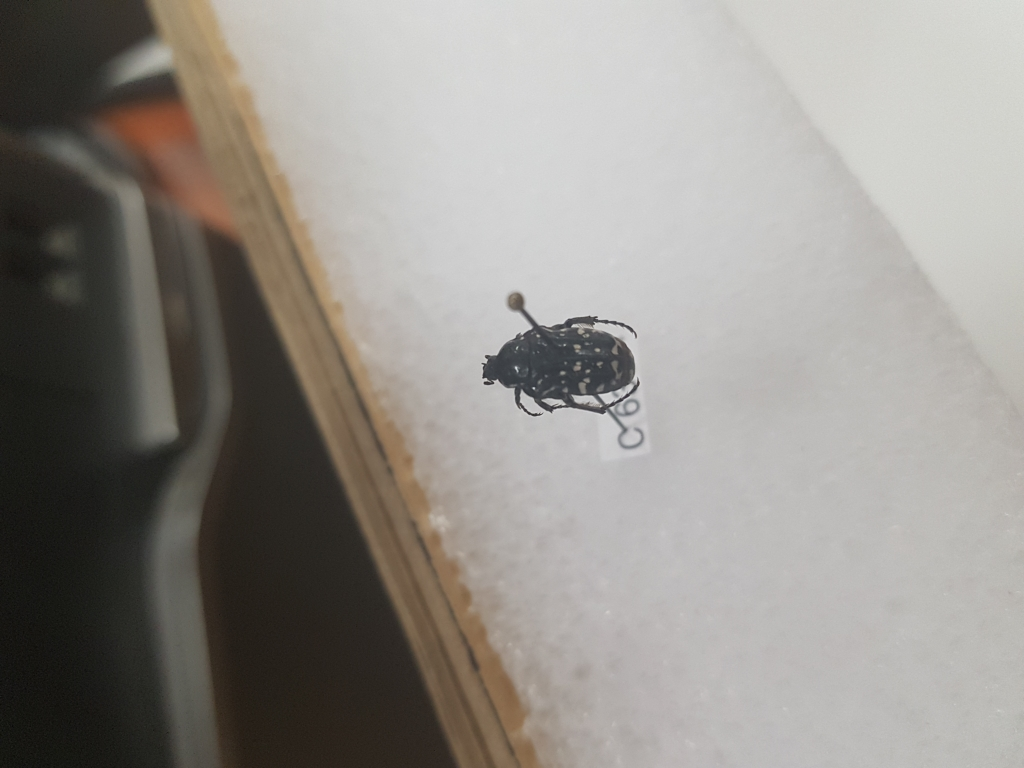Oxythyrea_albopicta: (469, 311, 647, 430)
